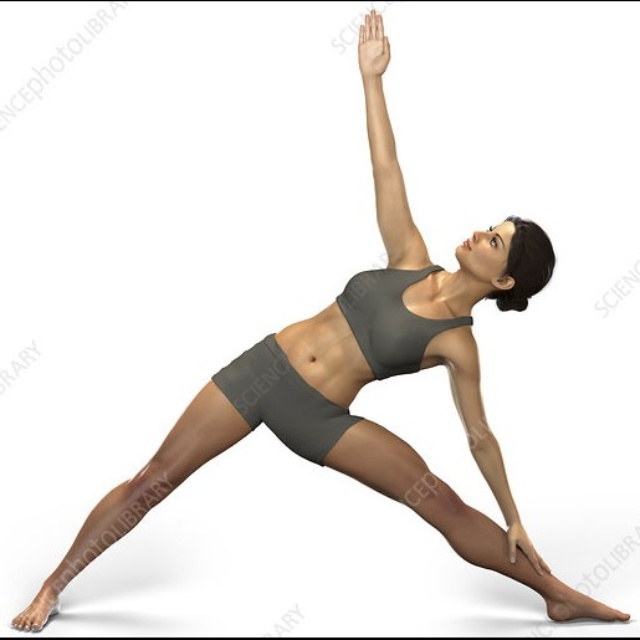Triangle_Pose: (8, 1, 631, 635)
